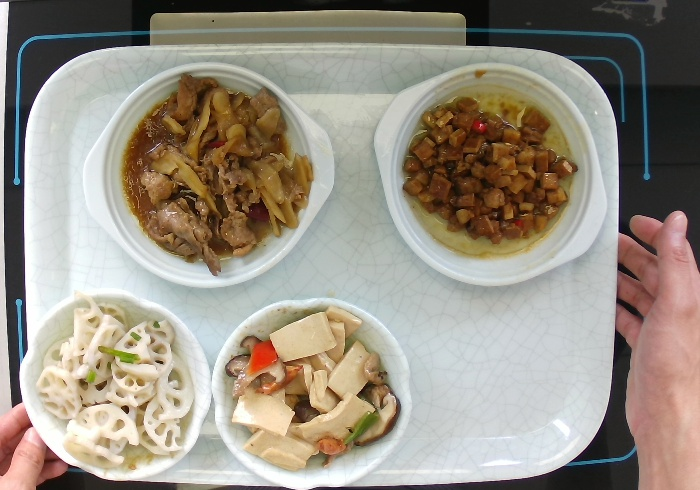JYsf-Ao_Yuan_Wan: (208, 295, 418, 490), (17, 283, 215, 484)
JYsf-Shuang_Er_Pan: (77, 58, 340, 292), (370, 59, 613, 290)
